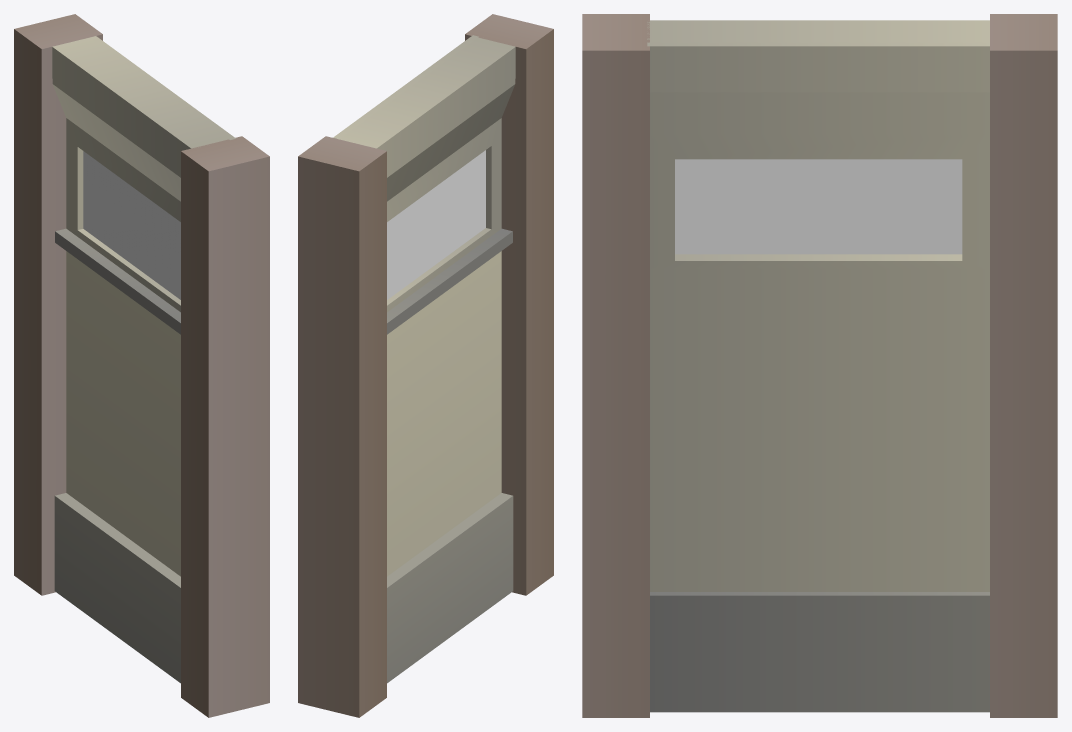
The model's file is B01_fenetre_3.fbx.
3 renders of one model, left to right at view 1: azimuth 30°, elevation 25°; view 2: azimuth 150°, elevation 25°; view 3: azimuth 270°, elevation 25°, orthographic. The views are drawn at different scales.
Visible parts, largest first — view 1: B01_fenetre_3; view 2: B01_fenetre_3; view 3: B01_fenetre_3.
Part boxes in pixels (x1,y1,x2,y2): B01_fenetre_3: (14, 14, 269, 717); B01_fenetre_3: (298, 14, 553, 717); B01_fenetre_3: (582, 14, 1057, 717).
Size of the model in its own units: 35.78 by 305 by 197.
